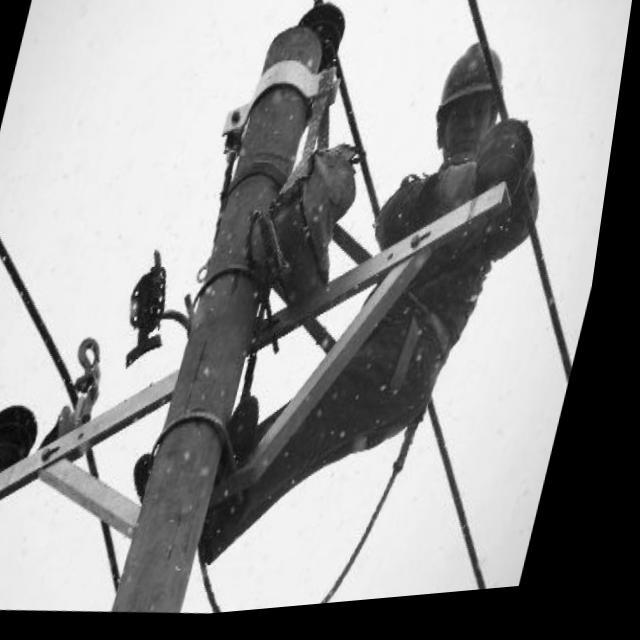belt: (334, 258, 506, 474)
